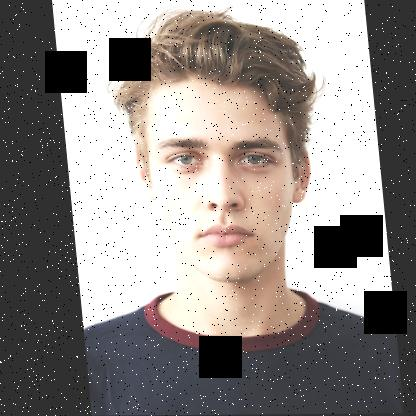Male: (125, 73, 314, 284)
